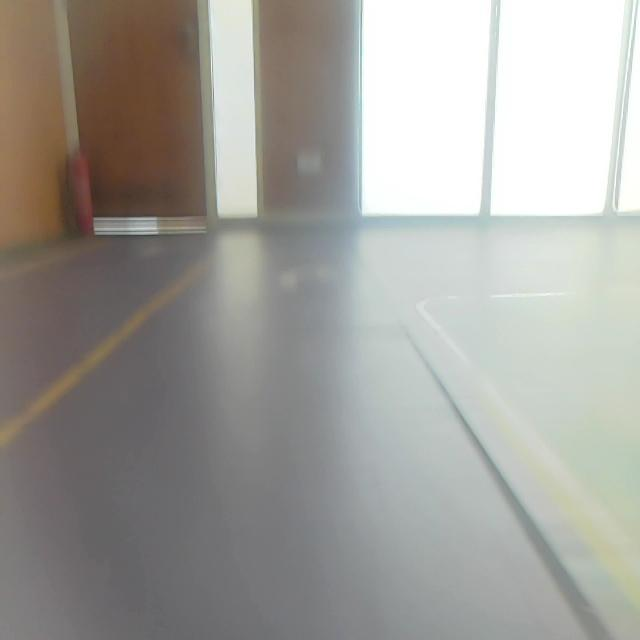left_lane: (1, 256, 217, 453)
right_lane: (408, 304, 640, 605)
